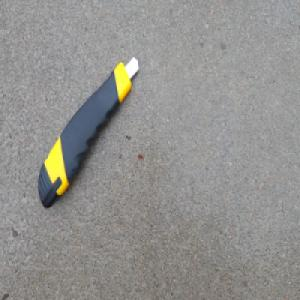Cutter: (38, 54, 140, 210)
